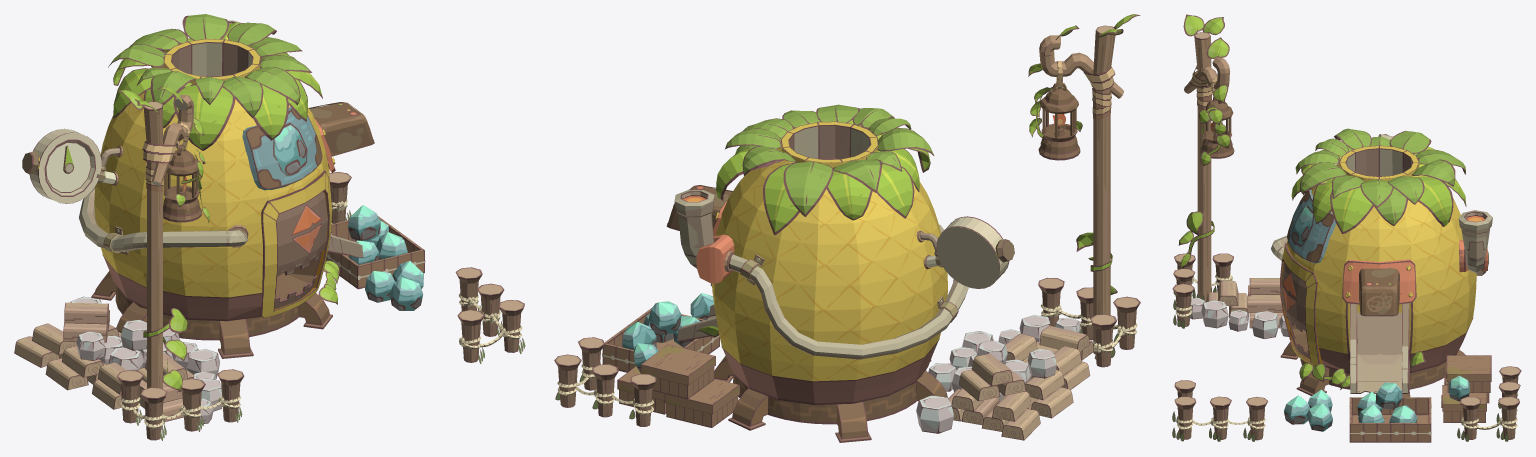
File: Mesh_Home_RF_StoneFac_SM.fbx
The picture shows the model from 3 angles, left to right: view 1: azimuth 30°, elevation 25°; view 2: azimuth 150°, elevation 25°; view 3: azimuth 270°, elevation 25°; orthographic projection. The views are drawn at different scales.
Parts seen in each view (by area): view 1: Mesh_Home_RF_StoneFac, Mesh_Home_RF_StoneFac_P; view 2: Mesh_Home_RF_StoneFac, Mesh_Home_RF_StoneFac_P; view 3: Mesh_Home_RF_StoneFac, Mesh_Home_RF_StoneFac_P.
Boxes of the visible parts, x1=… form: Mesh_Home_RF_StoneFac: x1=14, y1=20, x2=524, y2=440; Mesh_Home_RF_StoneFac_P: x1=65, y1=14, x2=525, y2=440; Mesh_Home_RF_StoneFac: x1=554, y1=25, x2=1140, y2=442; Mesh_Home_RF_StoneFac_P: x1=555, y1=14, x2=1140, y2=427; Mesh_Home_RF_StoneFac: x1=1172, y1=32, x2=1521, y2=440; Mesh_Home_RF_StoneFac_P: x1=1172, y1=14, x2=1508, y2=442.
Size of the model in its own units: 270 by 221 by 256.
